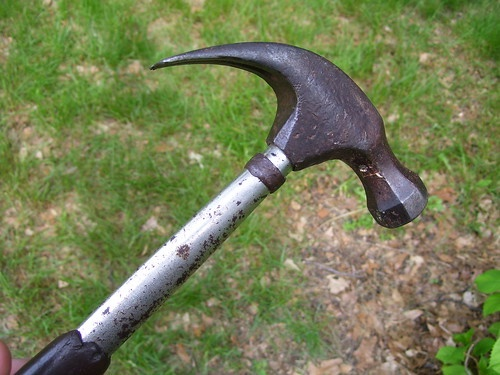hammer: (20, 38, 432, 375)
